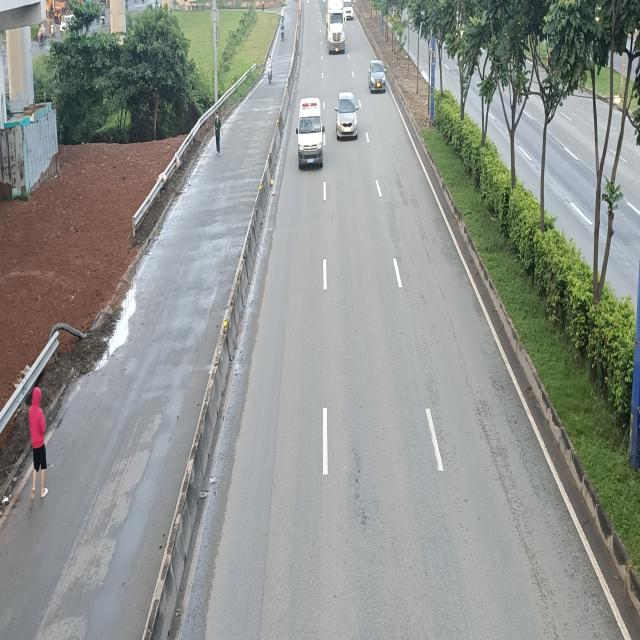car: (336, 92, 361, 140), (369, 58, 387, 92)
container: (328, 1, 348, 56)
van: (297, 98, 326, 170)
